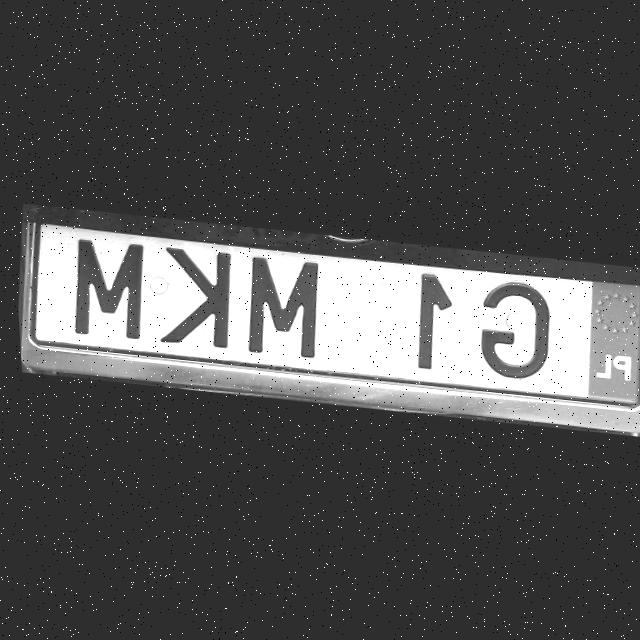license-plates: (31, 224, 640, 406)
